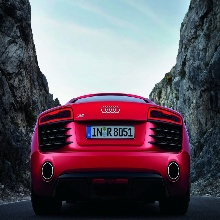no damage: (30, 93, 192, 216)
